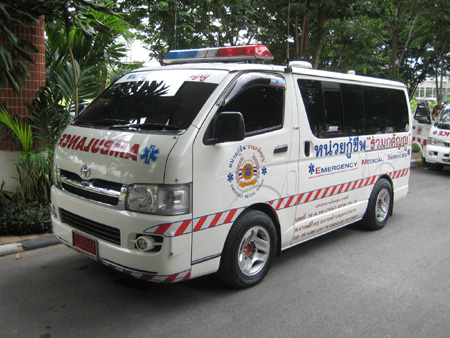van: (49, 59, 413, 292)
